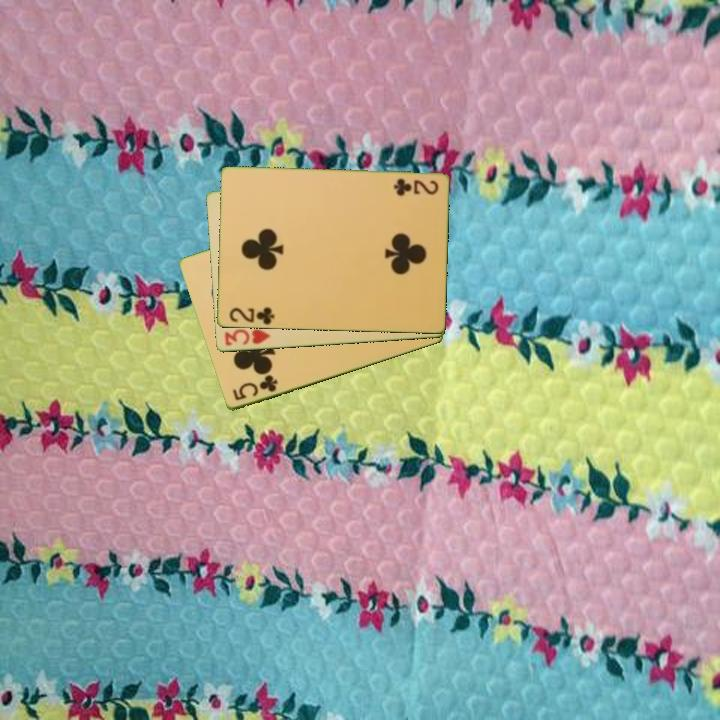2c: (226, 304, 277, 327), (390, 175, 440, 198)
3h: (221, 326, 273, 349)
5c: (229, 372, 281, 404)
